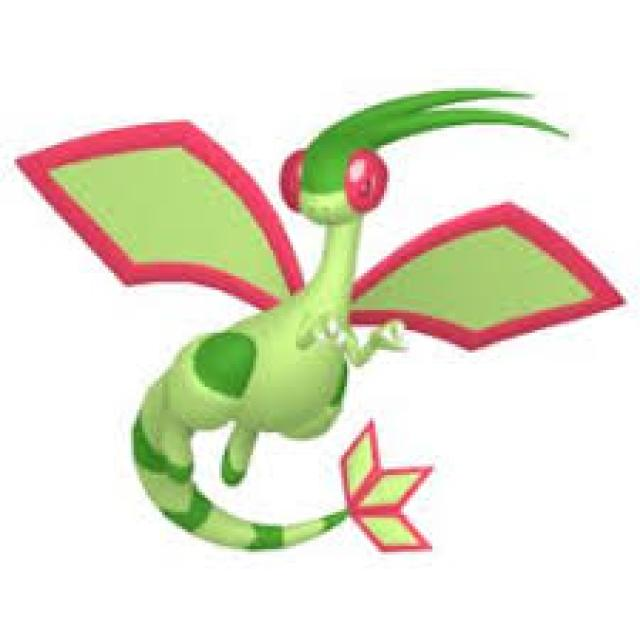flygon: (18, 79, 629, 554)
